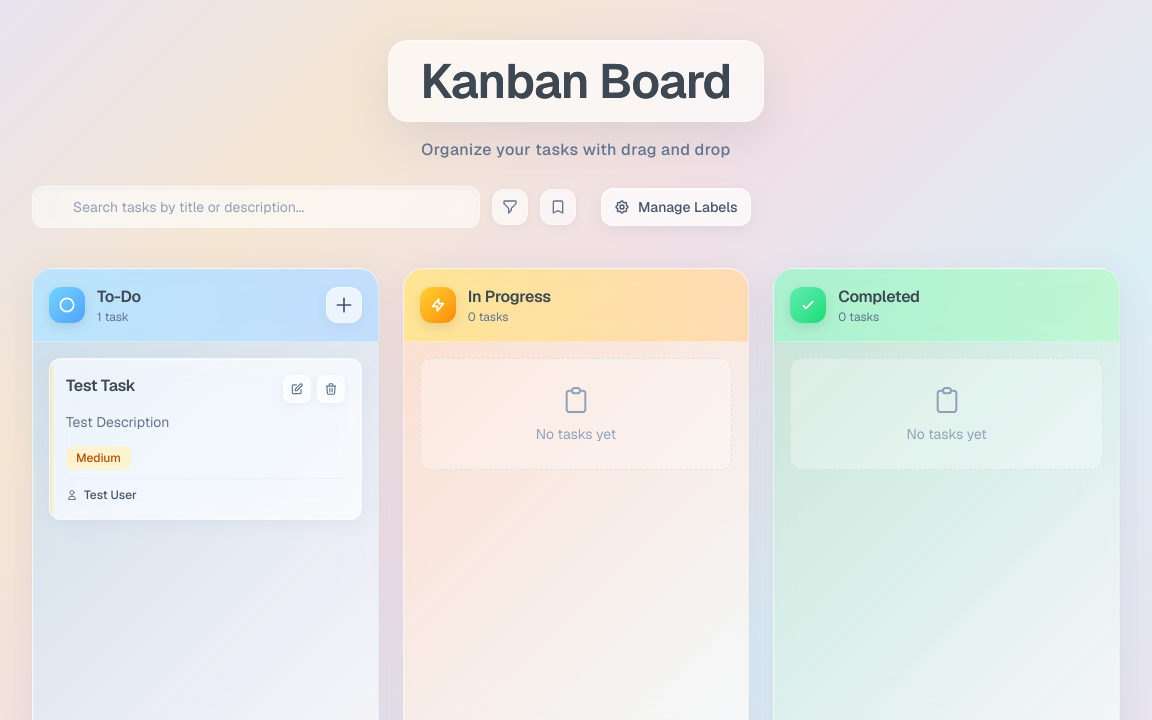
Scenario: Kanban Board Integration Tests › Edit Task Workflow › should handle partial updates correctly
Click the button named "edit task: test task" at {"x": 297, "y": 389}, box [283,375,311,403]
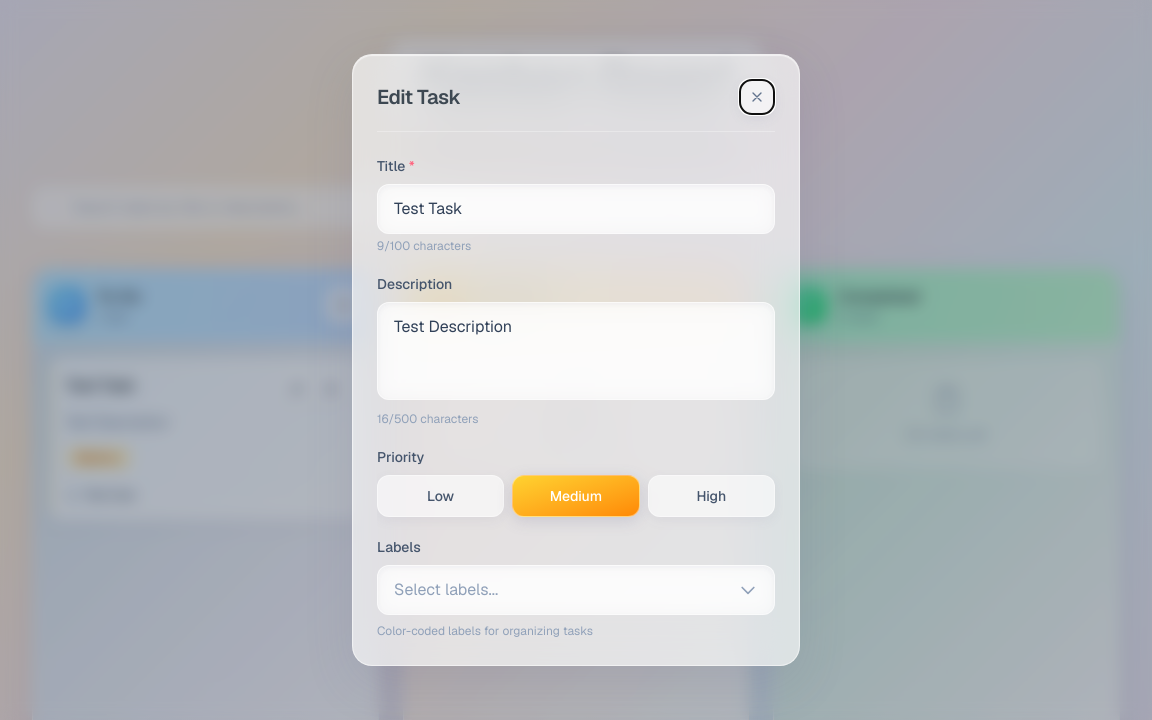
Result: the dialog is shown at [352,54,800,666]
Replace the text in the field labelled "Title *" with "Updated Title" at {"x": 576, "y": 209}, box [377,184,775,234]
(page scrolled)
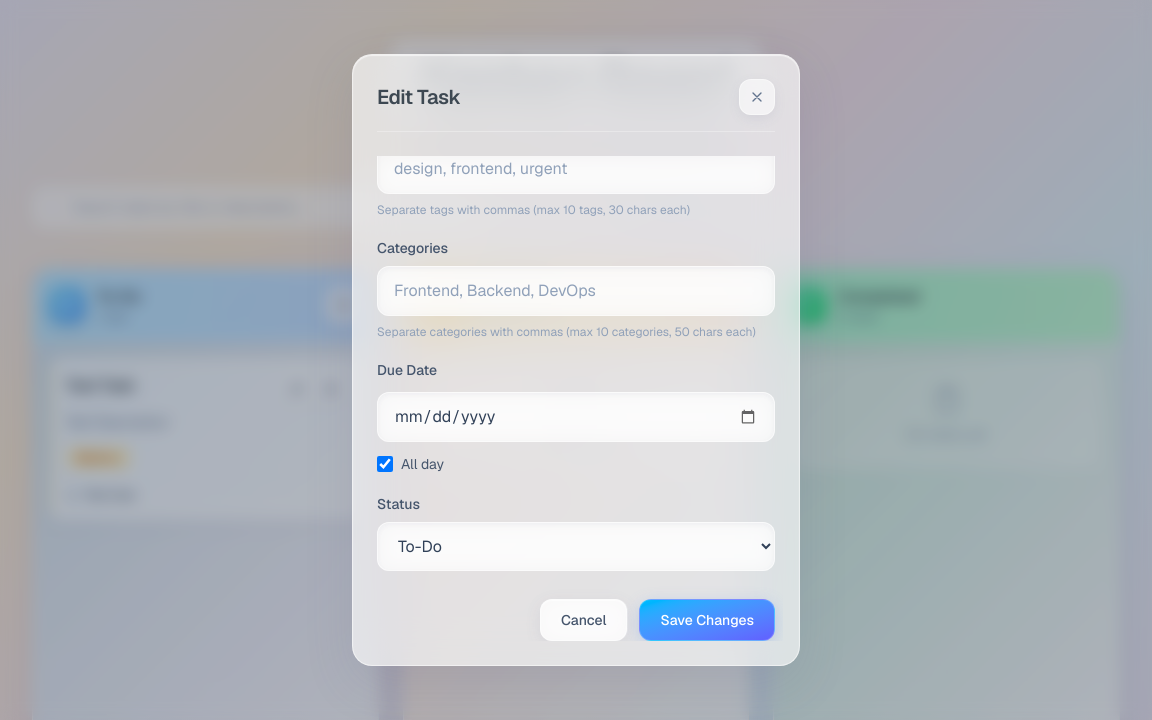
Click the button "Save Changes" at {"x": 707, "y": 620}, box [639,599,775,641]
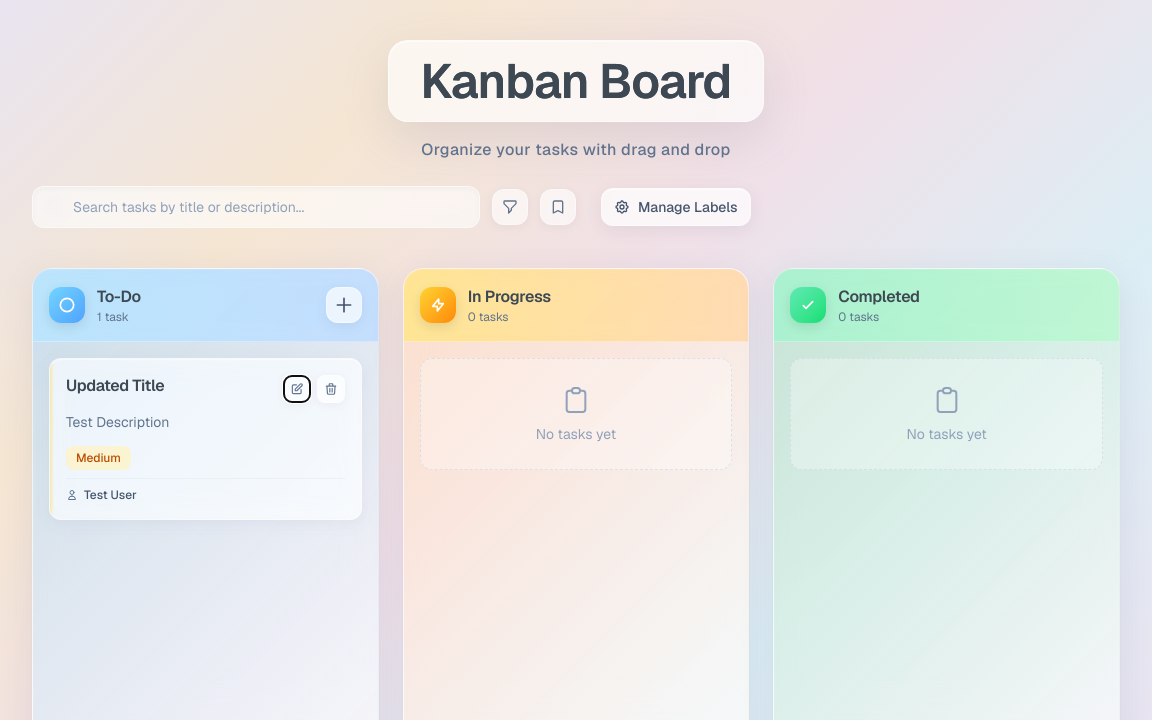
Result: the heading "Updated Title" is shown at [66,375,164,397]
